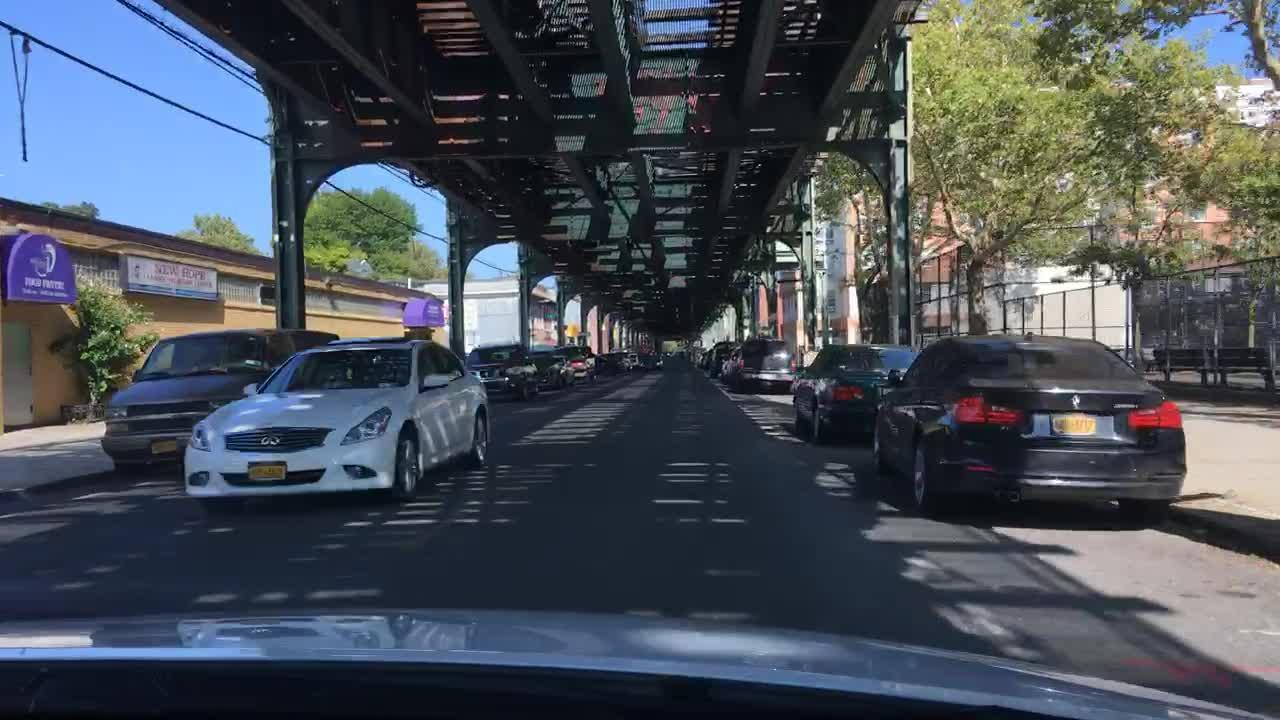Infiniti: (260, 434, 283, 446)
Volkswagen: (1069, 391, 1087, 410)
